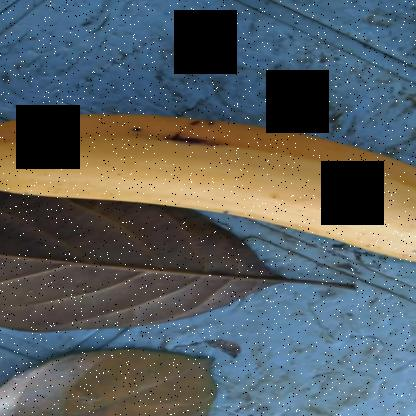freshripe: (0, 95, 411, 267)
